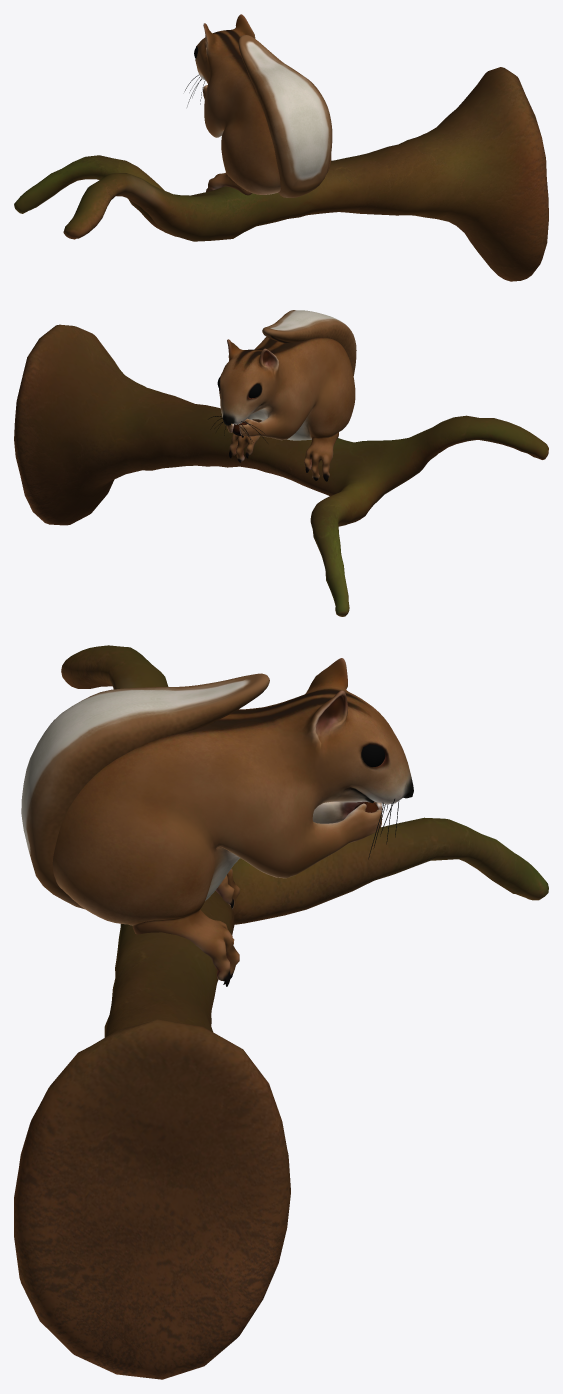
File: Squirrel.fbx
The picture shows the model from 3 angles, top to bottom: view 1: azimuth 30°, elevation 25°; view 2: azimuth 150°, elevation 25°; view 3: azimuth 270°, elevation 25°; orthographic projection. The views are drawn at different scales.
Visible parts, largest first — view 1: Branch, Squirrel_base_05, Squirrel_low_Polipaint1; view 2: Branch, Squirrel_base_05, Squirrel_low_Polipaint1; view 3: Branch, Squirrel_base_05, Squirrel_low_Polipaint1.
Boxes of the visible parts, bbox=[...] form: Branch: bbox=[14, 67, 548, 281]; Squirrel_base_05: bbox=[195, 14, 331, 195]; Squirrel_low_Polipaint1: bbox=[238, 35, 332, 197]; Branch: bbox=[14, 324, 548, 616]; Squirrel_base_05: bbox=[219, 337, 355, 481]; Squirrel_low_Polipaint1: bbox=[262, 310, 356, 375]; Branch: bbox=[14, 645, 548, 1379]; Squirrel_base_05: bbox=[52, 658, 413, 986]; Squirrel_low_Polipaint1: bbox=[21, 673, 269, 909].
Size of the model in its own units: 11.03 by 5.97 by 5.82.
